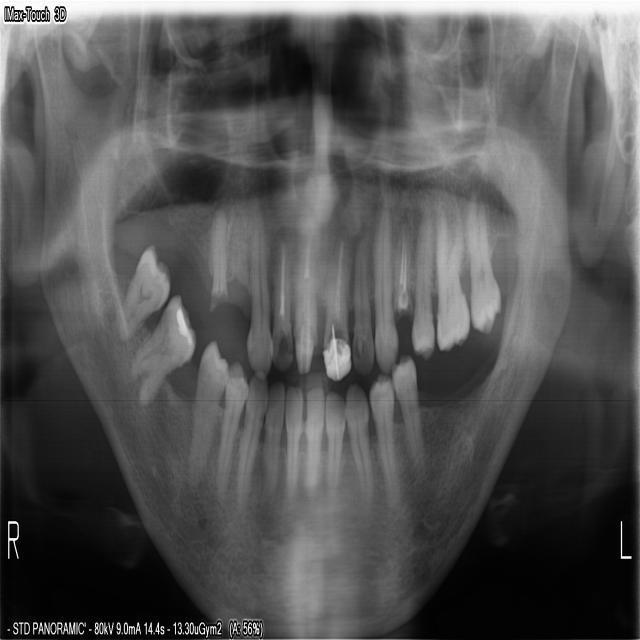LCD: (342, 380, 372, 512)
LCU: (369, 215, 399, 375)
LID: (318, 385, 344, 490), (300, 377, 324, 488)
LIU: (321, 252, 351, 381), (349, 247, 373, 373)
LMU: (462, 198, 504, 337), (433, 207, 469, 352)
LPMD: (389, 350, 427, 487), (366, 374, 399, 508)
LPMU: (406, 207, 434, 362), (389, 205, 413, 327)
RCD: (230, 380, 267, 505)
RCU: (243, 221, 272, 379)
RID: (252, 377, 286, 512), (282, 385, 302, 504)
RIU: (293, 241, 316, 380), (270, 242, 291, 372)
RMD: (131, 285, 198, 405), (120, 230, 174, 342)
RPMD: (182, 329, 228, 483), (209, 355, 245, 493)
RPMU: (206, 205, 228, 315)
